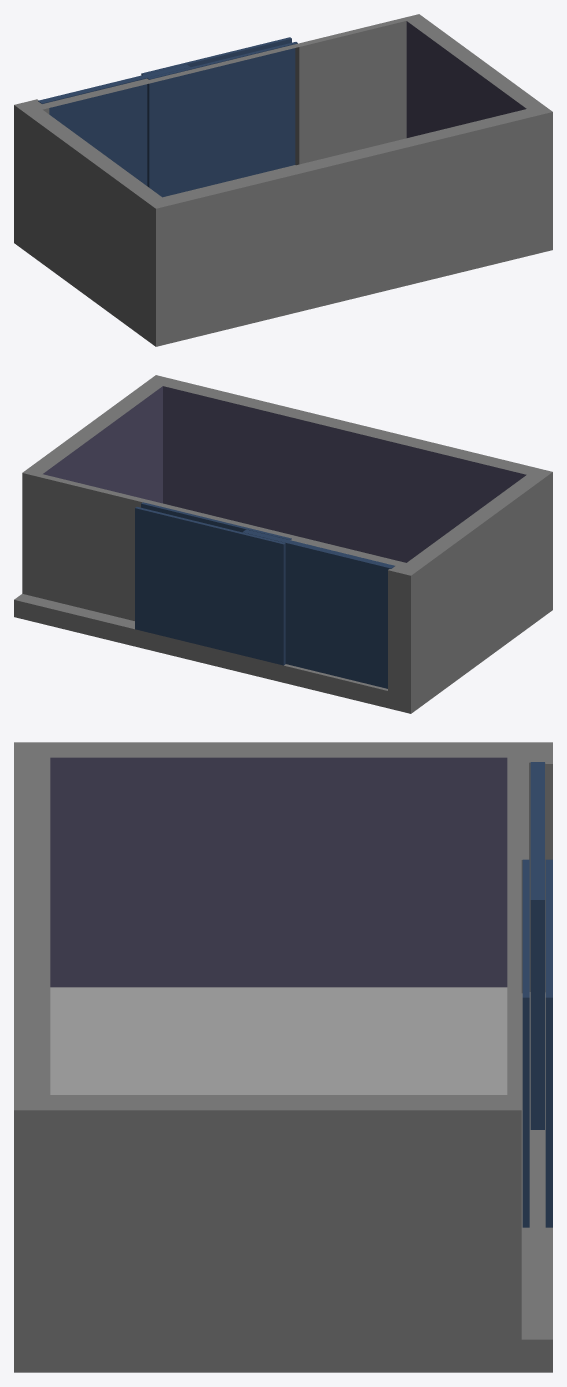
The model's file is loc1-1-lift.gltf.
The picture shows the model from 3 angles, top to bottom: view 1: azimuth 30°, elevation 25°; view 2: azimuth 150°, elevation 25°; view 3: azimuth 270°, elevation 25°; orthographic projection. The views are drawn at different scales.
Parts seen in each view (by area): view 1: body_lift, door_1, door_3, door_2; view 2: body_lift, door_2, door_3, door_1; view 3: body_lift, door_3, door_2, door_1.
Part boxes in pixels (x1,y1,x2,y2): body_lift: (14,14,552,346); door_1: (147,42,297,197); door_3: (38,64,190,185); door_2: (141,37,291,75); body_lift: (14,375,552,713); door_2: (135,507,285,665); door_3: (242,529,394,688); door_1: (141,502,291,539); body_lift: (14,742,552,1372); door_3: (530,762,544,1129); door_2: (545,859,552,1227); door_1: (522,859,529,1227).
Bounding box in the file's own units: 12 × 4 × 7.43.
